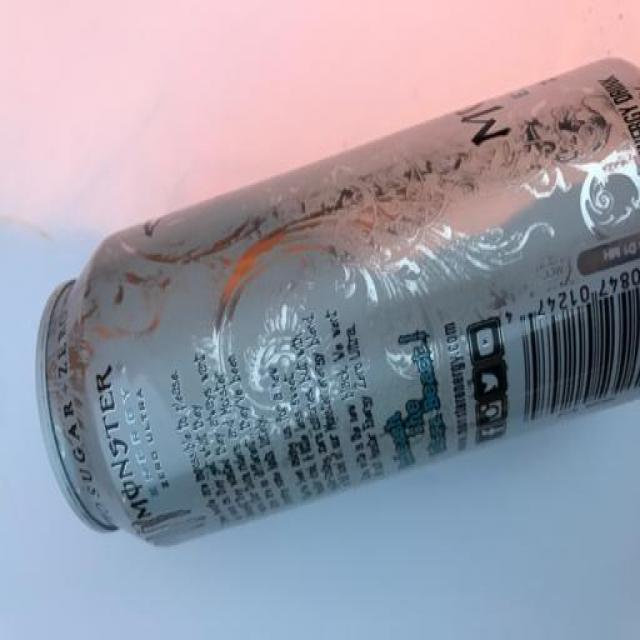metel: (21, 93, 640, 507)
